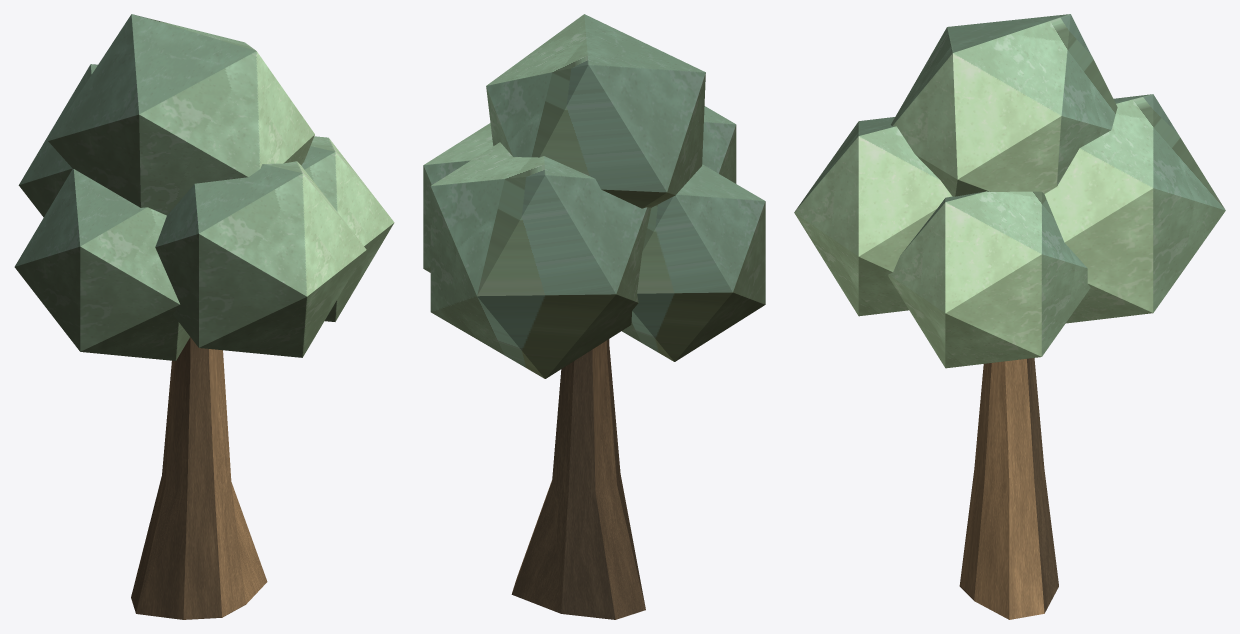
File: tree.fbx
3 renders of one model, left to right at view 1: azimuth 30°, elevation 25°; view 2: azimuth 150°, elevation 25°; view 3: azimuth 270°, elevation 25°, orthographic. The views are drawn at different scales.
Visible parts, largest first — view 1: pPlatonic1, pPlatonic4, pCube1, pasted__pPlatonic3, pPlatonic3, pPlatonic2; view 2: pPlatonic2, pPlatonic1, pCube1, pasted__pPlatonic3, pPlatonic3, pPlatonic4; view 3: pPlatonic1, pPlatonic3, pPlatonic2, pCube1, pPlatonic4.
Part boxes in pixels (left/top/right/bottom): pPlatonic1: left=48, top=14, right=314, bottom=215; pPlatonic4: left=155, top=161, right=366, bottom=357; pCube1: left=131, top=337, right=267, bottom=619; pasted__pPlatonic3: left=14, top=169, right=189, bottom=360; pPlatonic3: left=301, top=136, right=394, bottom=321; pPlatonic2: left=18, top=64, right=97, bottom=217; pPlatonic2: left=430, top=142, right=651, bottom=378; pPlatonic1: left=486, top=14, right=705, bottom=208; pCube1: left=511, top=339, right=645, bottom=619; pasted__pPlatonic3: left=622, top=164, right=765, bottom=361; pPlatonic3: left=423, top=123, right=493, bottom=272; pPlatonic4: left=702, top=106, right=736, bottom=183; pPlatonic1: left=891, top=14, right=1117, bottom=196; pPlatonic3: left=888, top=191, right=1090, bottom=368; pPlatonic2: left=1044, top=94, right=1225, bottom=323; pCube1: left=959, top=358, right=1058, bottom=619; pPlatonic4: left=794, top=117, right=952, bottom=316.
Size of the model in its own units: 403 by 664 by 467.
2 materials, 2 textured.
